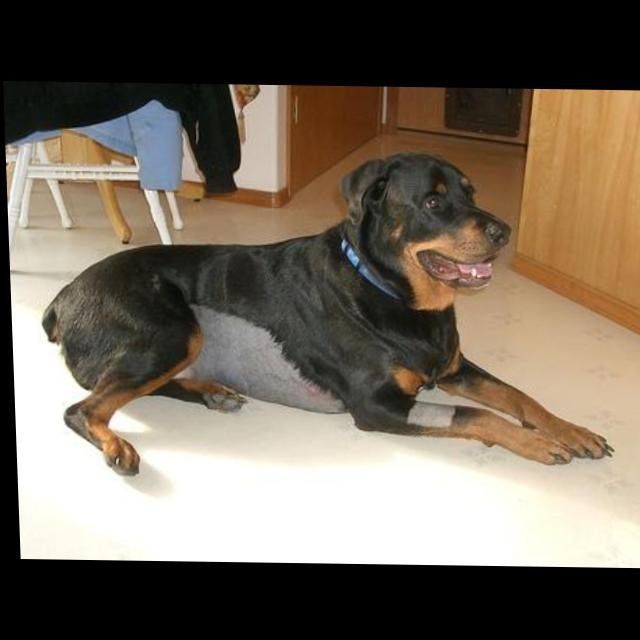rottweiler: (34, 145, 612, 482)
